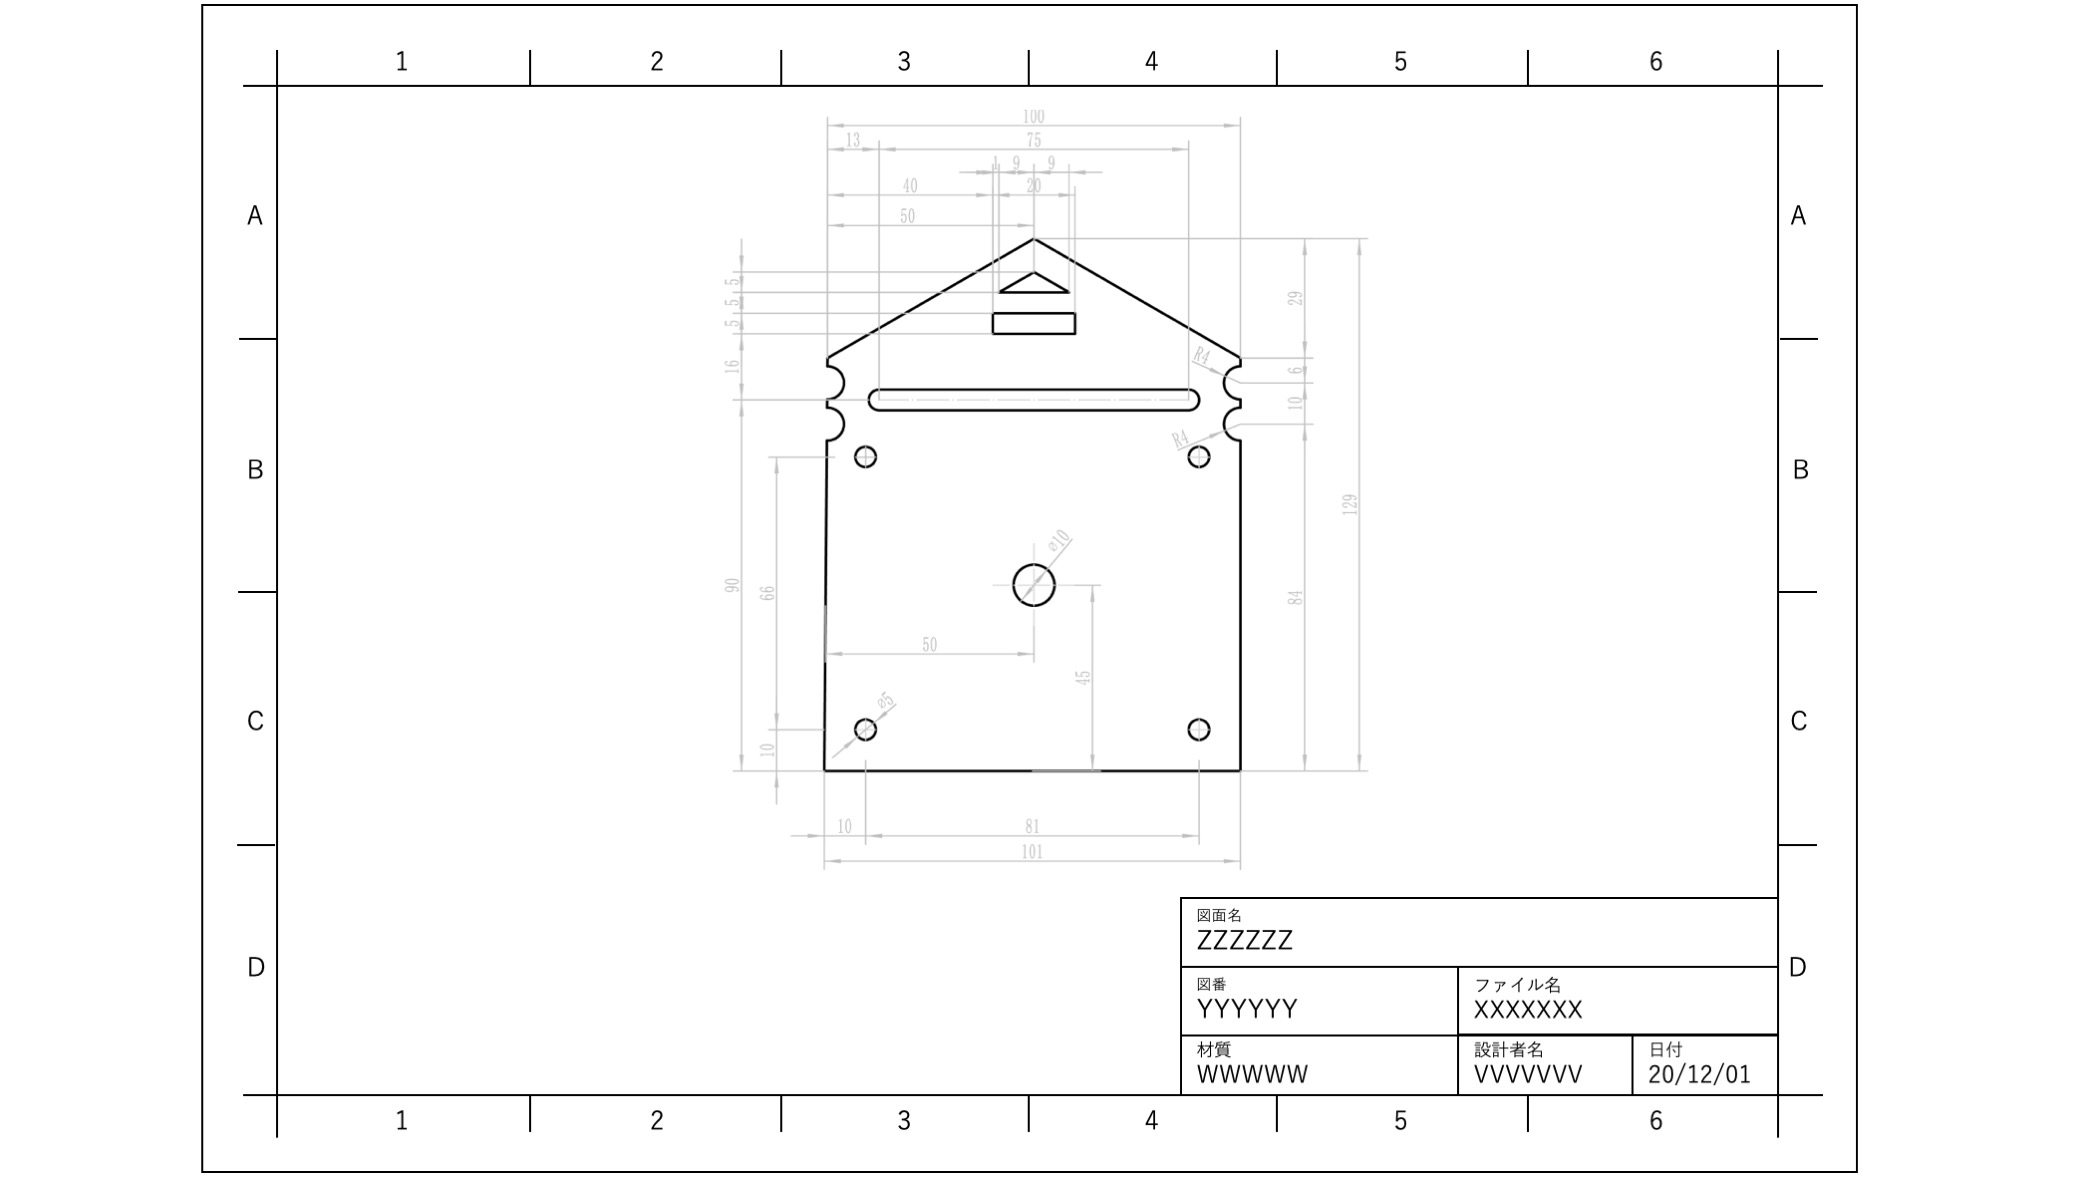circle: (1007, 557, 1067, 619), (851, 709, 884, 744), (1183, 440, 1213, 474), (1183, 714, 1214, 744), (850, 438, 878, 472)
rectangle: (858, 375, 1206, 420), (982, 306, 1087, 345)
triangle: (1002, 262, 1066, 298)
